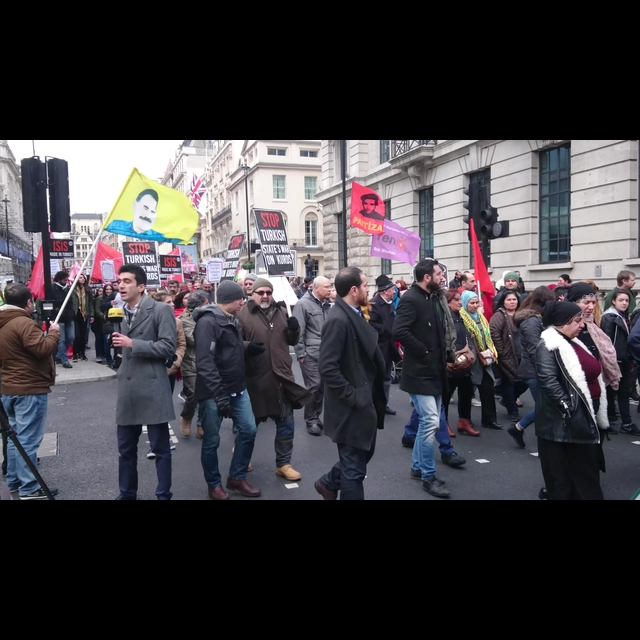APO: (130, 186, 162, 231)
